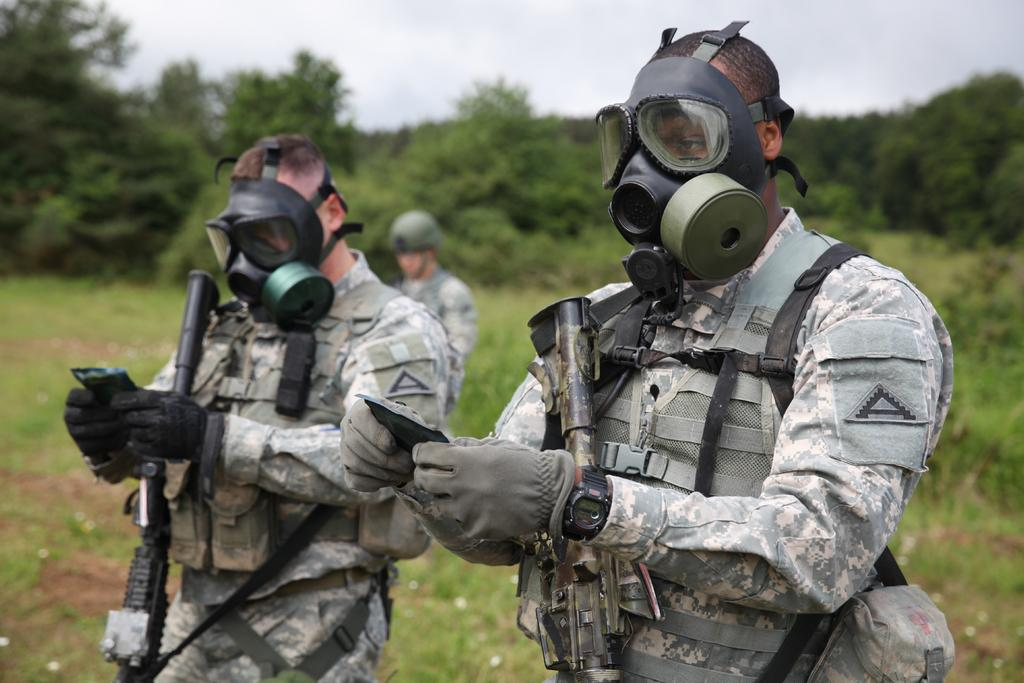Rifle: (106, 274, 218, 682)
